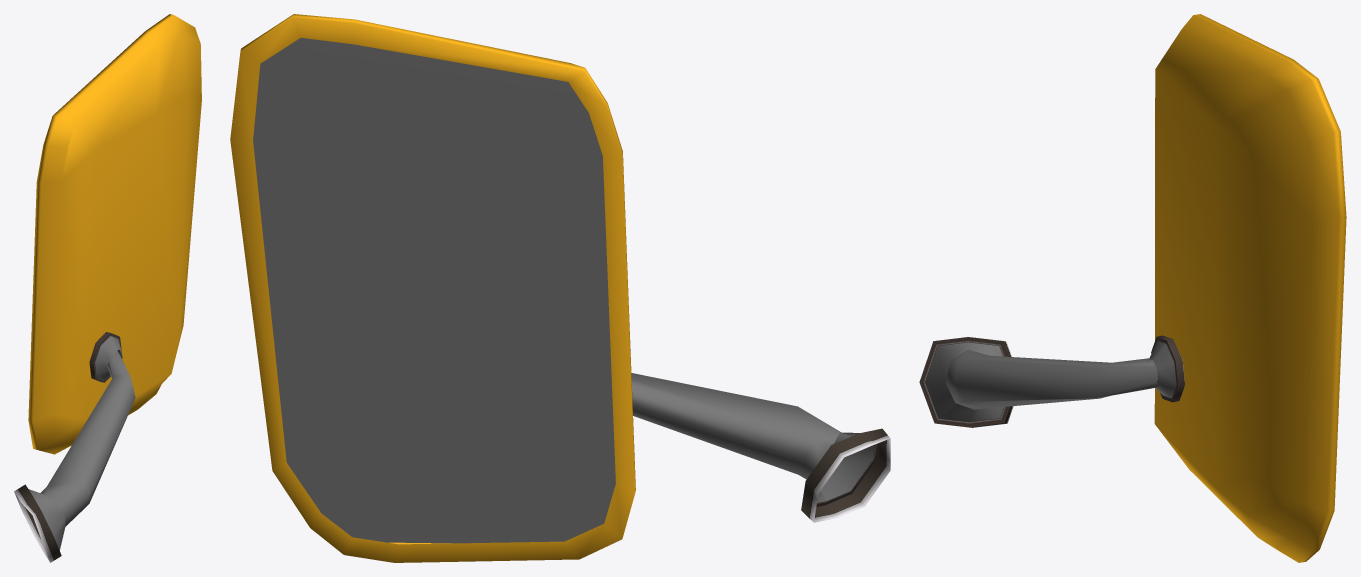
File: bath7.glb
3 views of the same model, side by side, from view 1: azimuth 30°, elevation 25°; view 2: azimuth 150°, elevation 25°; view 3: azimuth 270°, elevation 25° (orthographic). The views are drawn at different scales.
Parts seen in each view (by area): view 1: node_id418, node_id416, node_id420; view 2: node_id416, node_id418, node_id420; view 3: node_id418, node_id416, node_id420.
Part boxes in pixels (left/top/right/bottom): node_id418: left=28, top=14, right=201, bottom=454; node_id416: left=28, top=336, right=135, bottom=550; node_id420: left=14, top=332, right=121, bottom=562; node_id416: left=253, top=37, right=875, bottom=543; node_id418: left=230, top=14, right=635, bottom=562; node_id420: left=801, top=428, right=890, bottom=522; node_id418: left=1154, top=14, right=1346, bottom=562; node_id416: left=925, top=341, right=1176, bottom=421; node_id420: left=919, top=335, right=1184, bottom=427.
Size of the model in its own units: 0.4397 by 0.512 by 0.3833.
3 materials, 3 textured.
